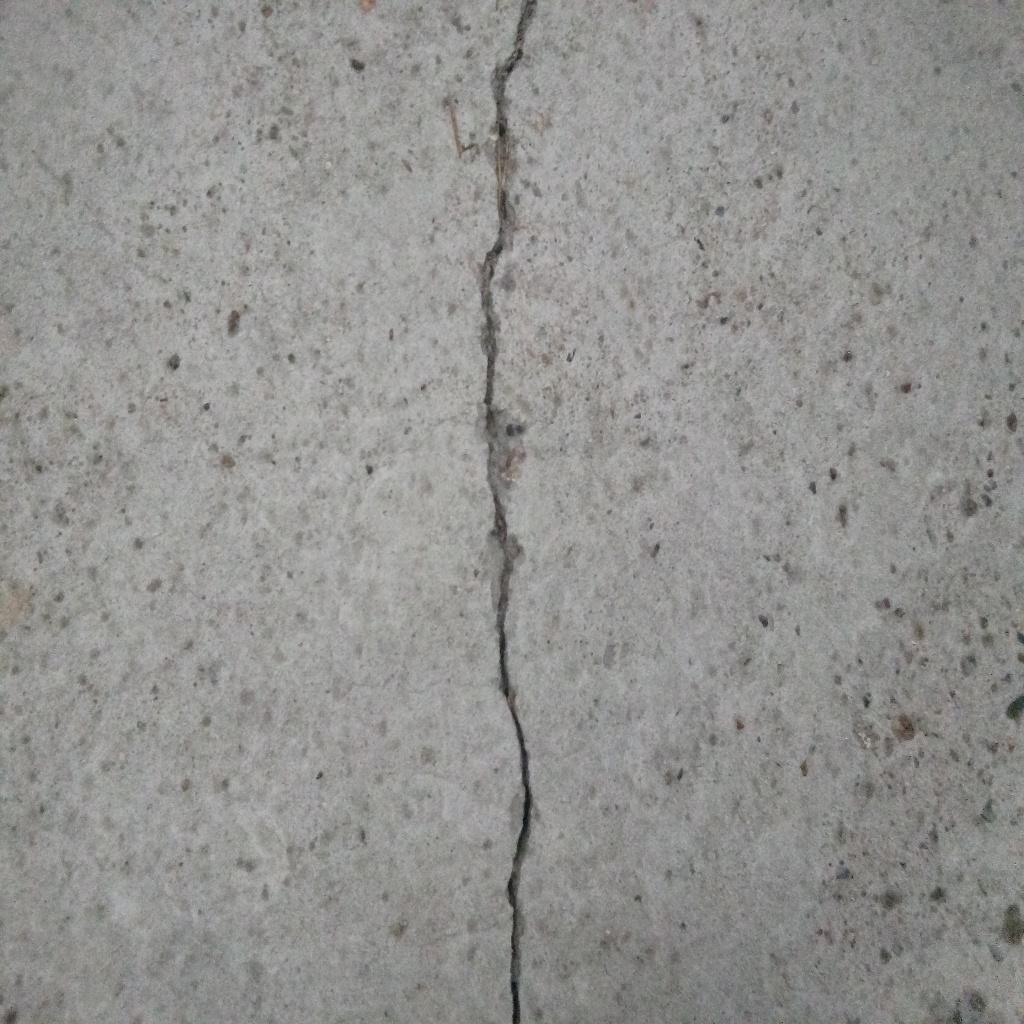Crack: (479, 1, 540, 1024)
